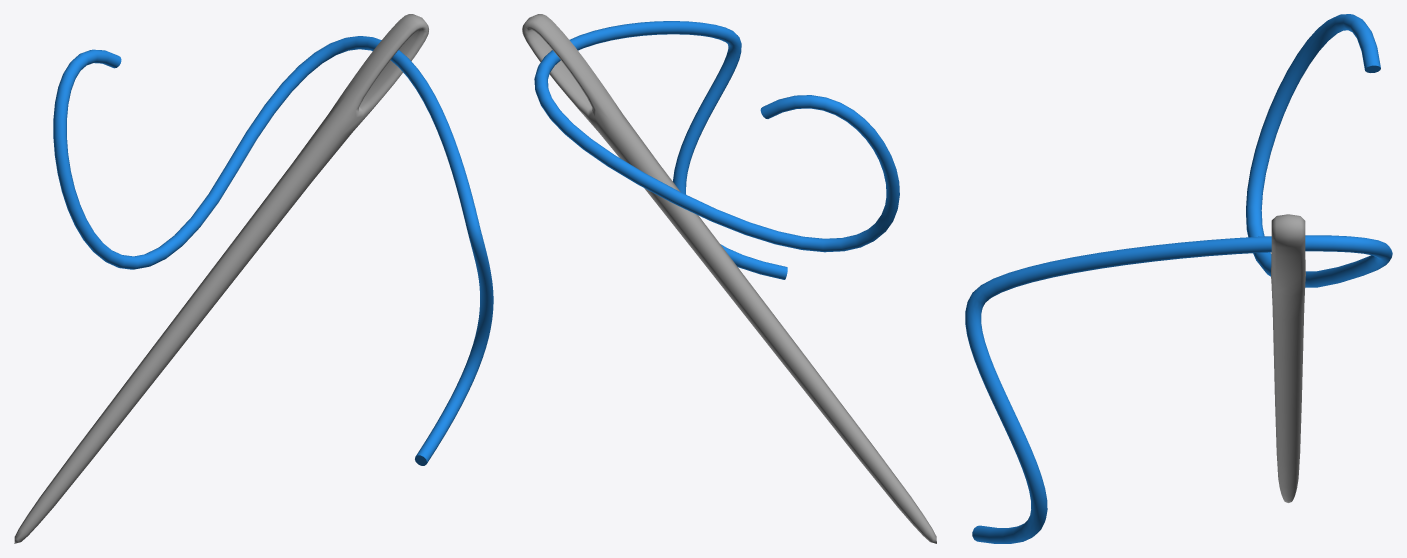
File: sewing_needle.gltf
The picture shows the model from 3 angles, left to right: view 1: azimuth 30°, elevation 25°; view 2: azimuth 150°, elevation 25°; view 3: azimuth 270°, elevation 25°; orthographic projection. The views are drawn at different scales.
Visible parts, largest first — view 1: Cube.909; view 2: Cube.909; view 3: Cube.909.
Part boxes in pixels (x1,y1,x2,y2): Cube.909: [14, 14, 493, 543]; Cube.909: [522, 14, 936, 543]; Cube.909: [965, 14, 1392, 543].
Size of the model in its own units: 2.1 by 2.18 by 1.56.
Materials: 1 (1 with a texture image).
